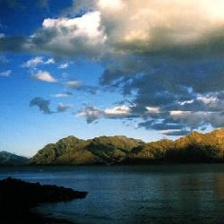neutral: (1, 125, 224, 201)
